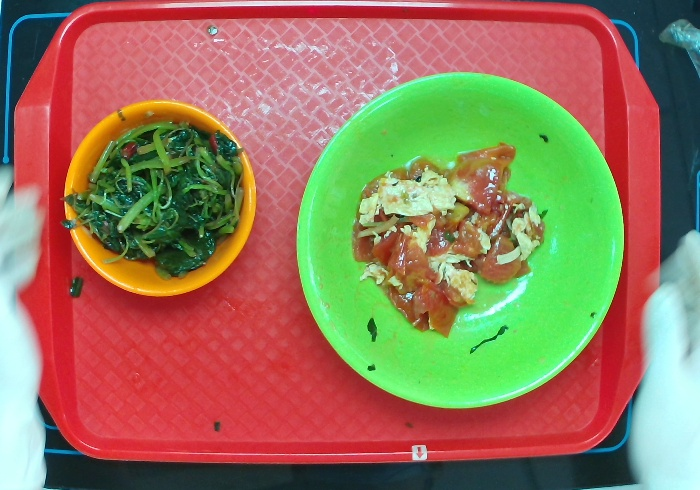YKMZ-Ju_Se_Yuan_Wan: (62, 98, 258, 298)
YKMZ-Lv_Se_Tang_Wan: (295, 70, 626, 410)
